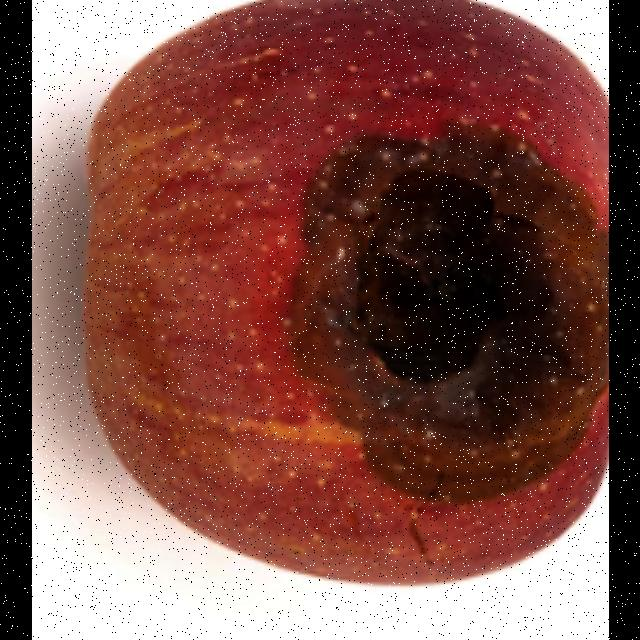Apel Tidak Segar: (44, 1, 608, 630)
